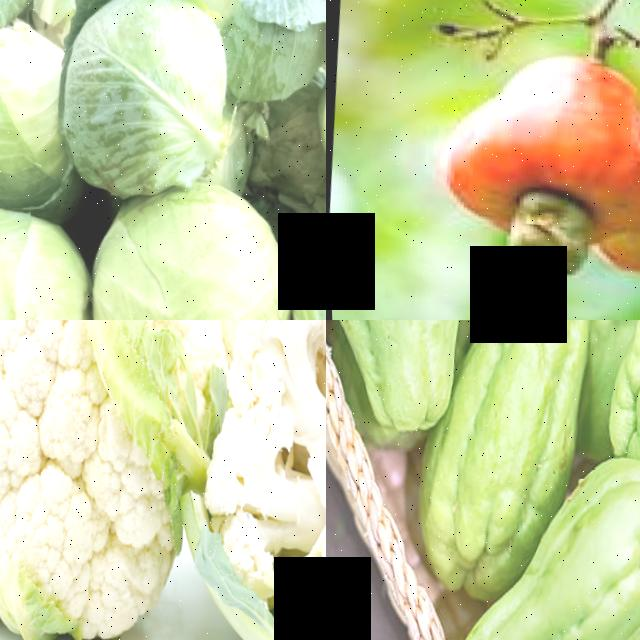cabbage: (48, 0, 249, 183), (81, 198, 305, 320), (0, 31, 100, 197), (0, 217, 106, 320)
cashew: (487, 181, 632, 287)
cauliflower: (0, 320, 254, 640), (150, 320, 326, 640)
chayote: (411, 320, 612, 515), (467, 425, 640, 640), (326, 320, 478, 435)
